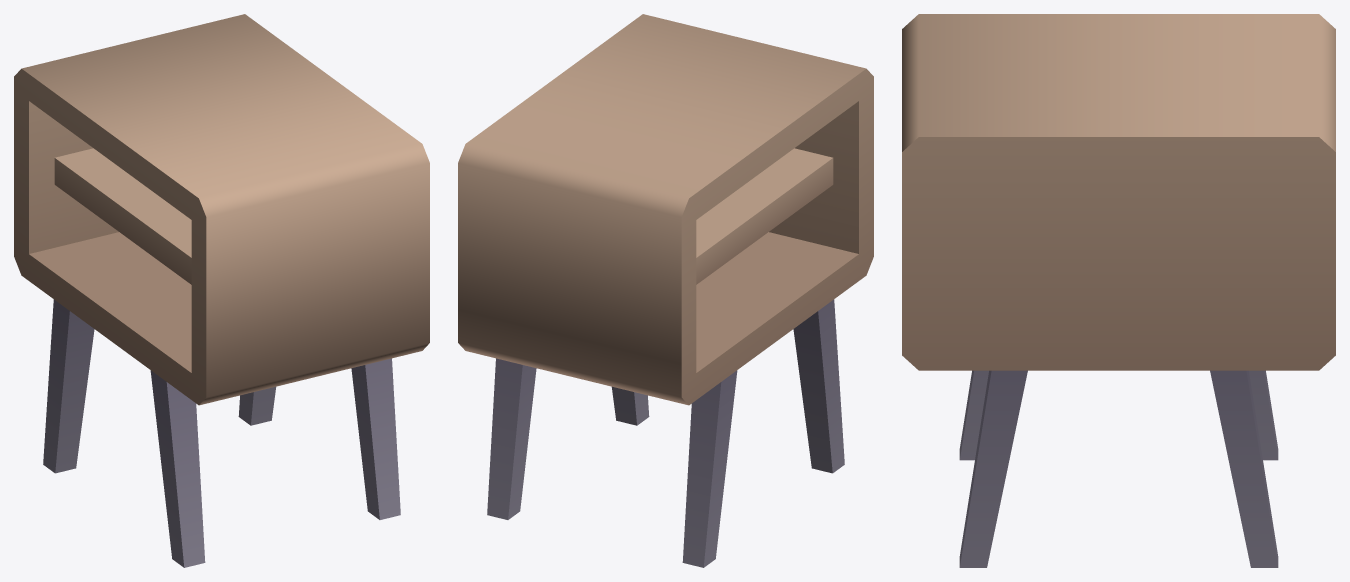
The model's file is sidetable-open-small.glb.
The picture shows the model from 3 angles, left to right: view 1: azimuth 30°, elevation 25°; view 2: azimuth 150°, elevation 25°; view 3: azimuth 270°, elevation 25°; orthographic projection. The views are drawn at different scales.
Visible parts, largest first — view 1: sidetable-open-small; view 2: sidetable-open-small; view 3: sidetable-open-small.
Boxes of the visible parts, x1,y1,x2,y2 form: sidetable-open-small: (14,14,429,567); sidetable-open-small: (458,14,873,567); sidetable-open-small: (902,14,1335,567).
Bounding box in the file's own units: 0.4 × 0.656 × 0.596.
